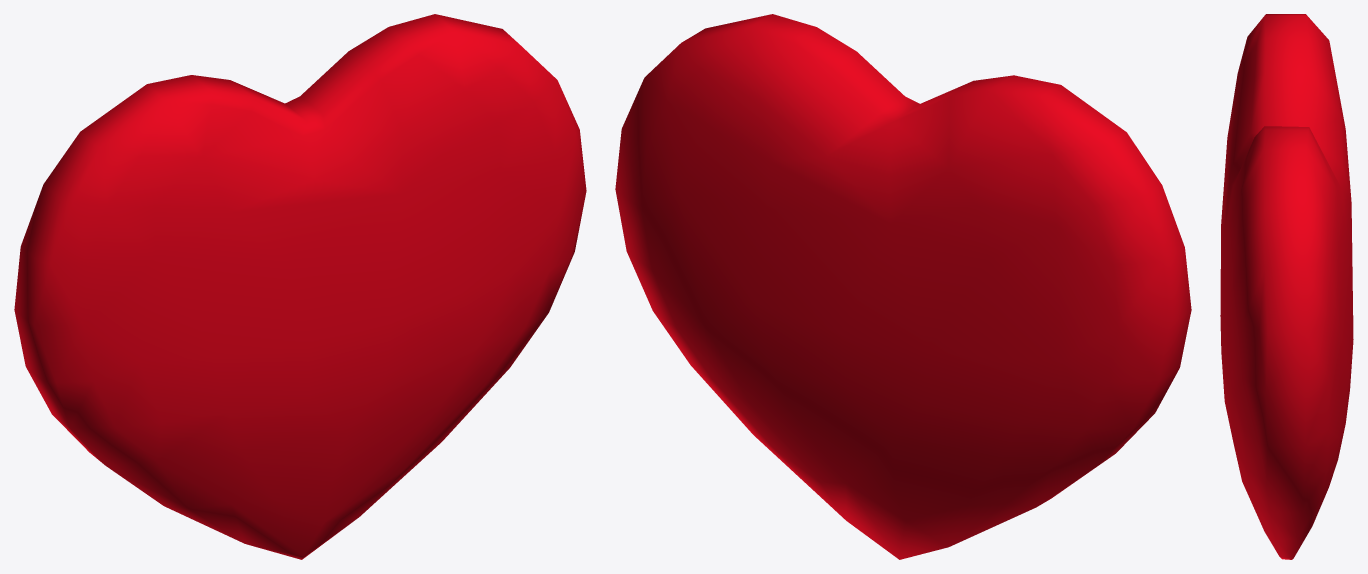
Rendered from Hearts.fbx.
3 views of the same model, side by side, from view 1: azimuth 30°, elevation 25°; view 2: azimuth 150°, elevation 25°; view 3: azimuth 270°, elevation 25° (orthographic). The views are drawn at different scales.
Visible parts, largest first — view 1: heart.024; view 2: heart.024; view 3: heart.024.
Part boxes in pixels (box(x1,y1,x2,y2)): heart.024: box(14, 14, 586, 559); heart.024: box(615, 14, 1191, 559); heart.024: box(1220, 14, 1353, 559).
Size of the model in its own units: 85.94 by 74.19 by 18.73.
